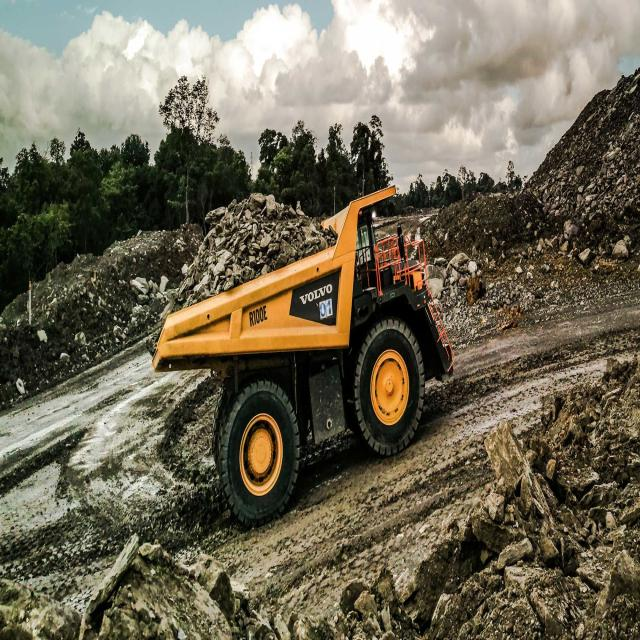dump_truck: (151, 179, 457, 533)
